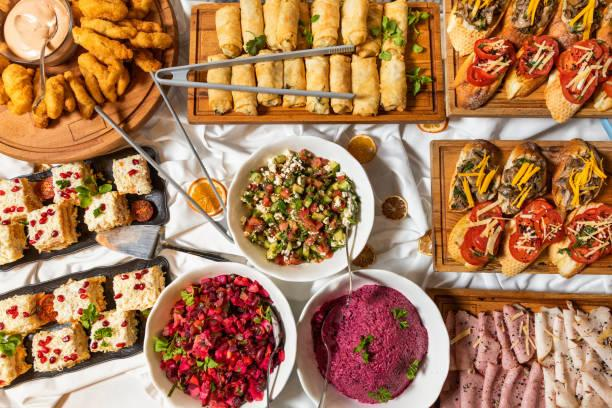Braised Crucian Carp: (182, 1, 429, 127), (3, 2, 172, 162), (432, 138, 608, 277), (0, 257, 169, 396), (144, 262, 295, 407), (228, 133, 375, 281), (2, 147, 170, 275), (296, 268, 448, 406), (442, 0, 606, 118)
